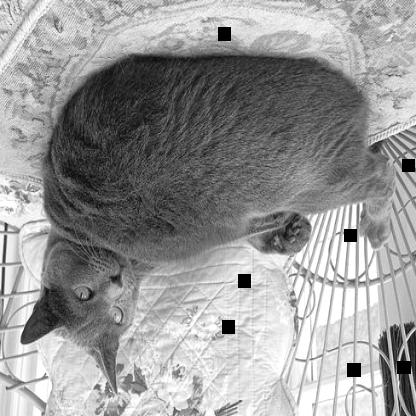cat: (20, 55, 396, 396)
